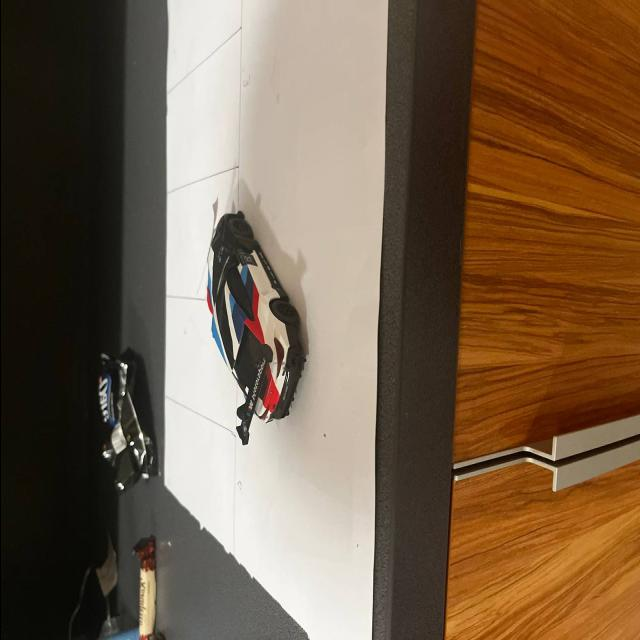cars: (186, 174, 330, 483)
